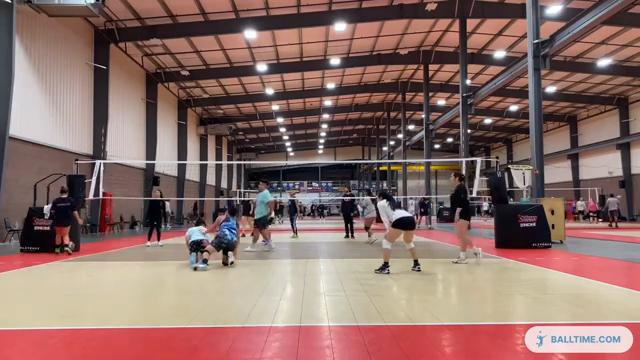difesa: (200, 205, 241, 267), (181, 207, 212, 275)
